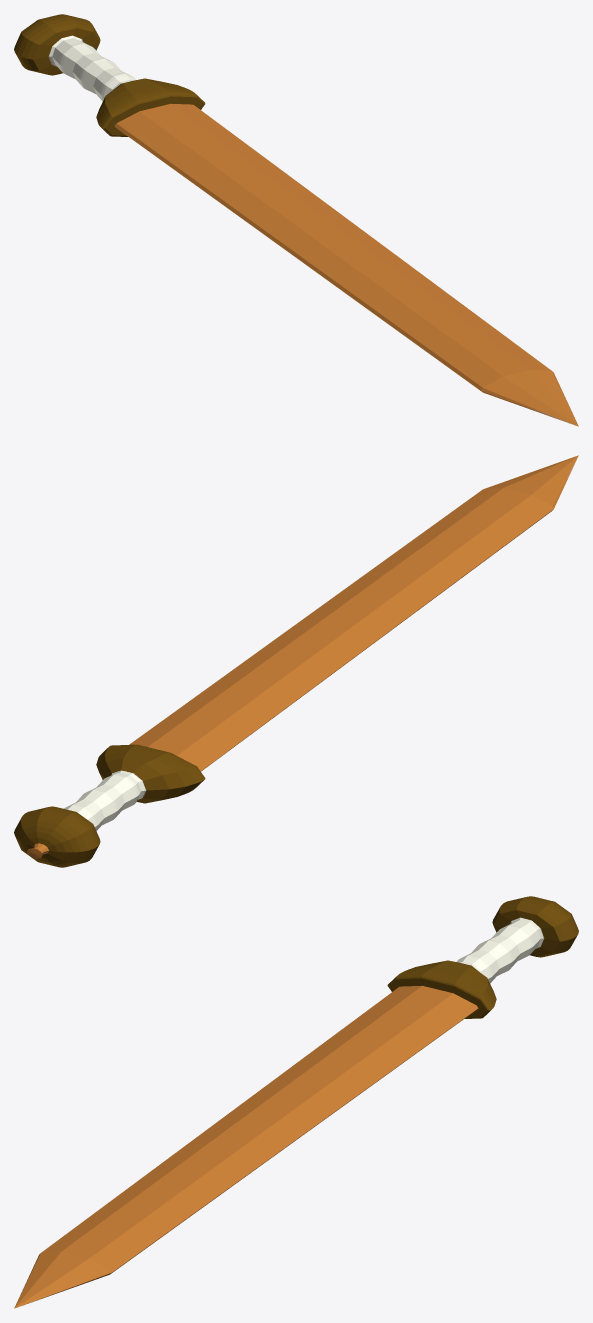
Rendered from Sword.fbx.
The picture shows the model from 3 angles, top to bottom: view 1: azimuth 30°, elevation 25°; view 2: azimuth 150°, elevation 25°; view 3: azimuth 330°, elevation 25°; orthographic projection.
Parts seen in each view (by area): view 1: Sword; view 2: Sword; view 3: Sword.
Boxes of the visible parts, bbox=[...] form: Sword: bbox=[14, 14, 578, 426]; Sword: bbox=[14, 455, 578, 867]; Sword: bbox=[14, 896, 578, 1308].
Bounding box in the file's own units: 76.85 × 35.85 × 701.
